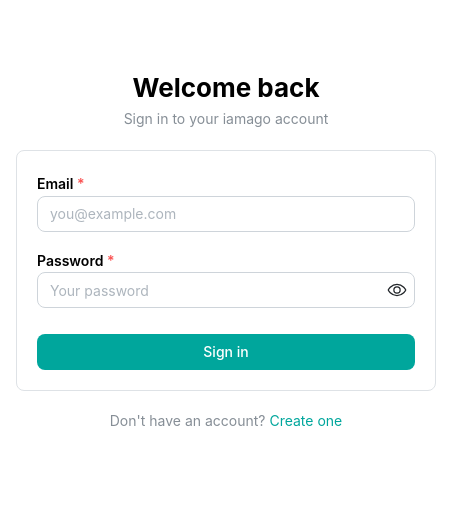
it: <LoginPage /> › surfaces the API error message when credentials are rejected
The width and height of the screenshot is (453, 506).
In the field labelled "Email *": (226,214) [37,196,415,232], type "ada@example.com"
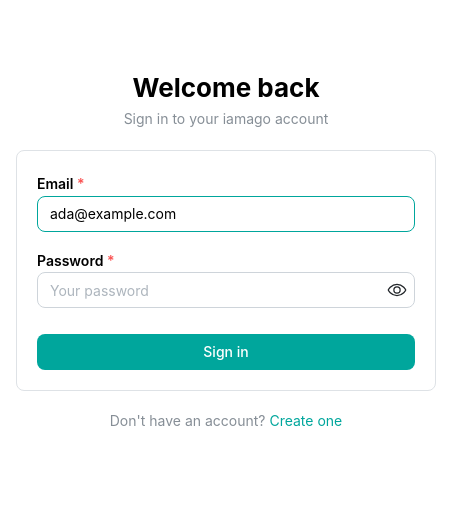
In the password field with placeholder "Your password": (226,290) [38,273,414,307], type "wrong-password"
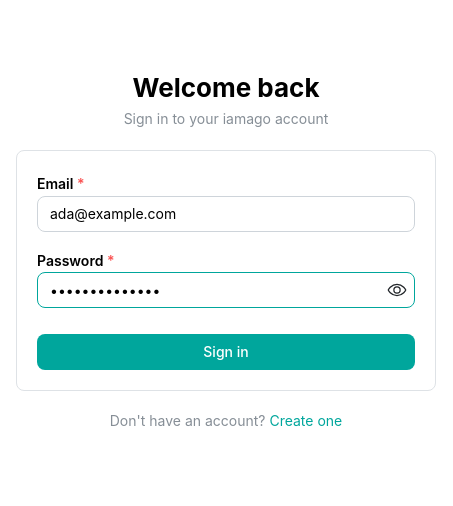
Click the button "Sign in": (226,352) [37,334,415,370]
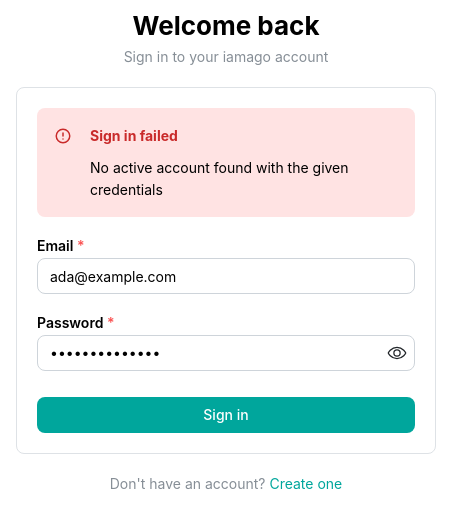
Result: the text "No active account found with the given credentials" is shown at [90,159,349,198]
